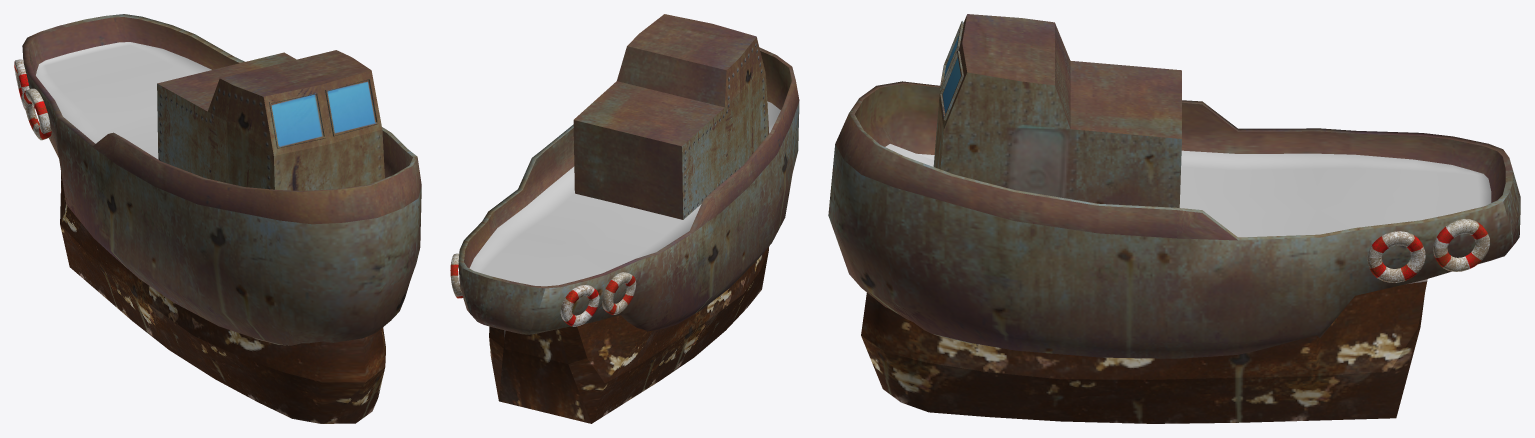
File: Static_boat.FBX
3 views of the same model, side by side, from view 1: azimuth 30°, elevation 25°; view 2: azimuth 150°, elevation 25°; view 3: azimuth 270°, elevation 25° (orthographic). The views are drawn at different scales.
Parts seen in each view (by area): view 1: Static_boat, Life_Preserver3, Life_Preserver4; view 2: Static_boat, Life_Preserver4, Life_Preserver3, Life_Preserver2; view 3: Static_boat, Life_Preserver1, Life_Preserver2.
Part boxes in pixels (x1,y1,x2,y2): Static_boat: [22, 14, 421, 423]; Life_Preserver3: [24, 88, 51, 140]; Life_Preserver4: [14, 59, 34, 109]; Static_boat: [458, 14, 799, 423]; Life_Preserver4: [560, 285, 599, 326]; Life_Preserver3: [602, 272, 636, 314]; Life_Preserver2: [450, 253, 462, 298]; Static_boat: [828, 14, 1520, 423]; Life_Preserver1: [1367, 231, 1425, 282]; Life_Preserver2: [1433, 219, 1489, 271].
Size of the model in its own units: 168 by 235 by 427.
